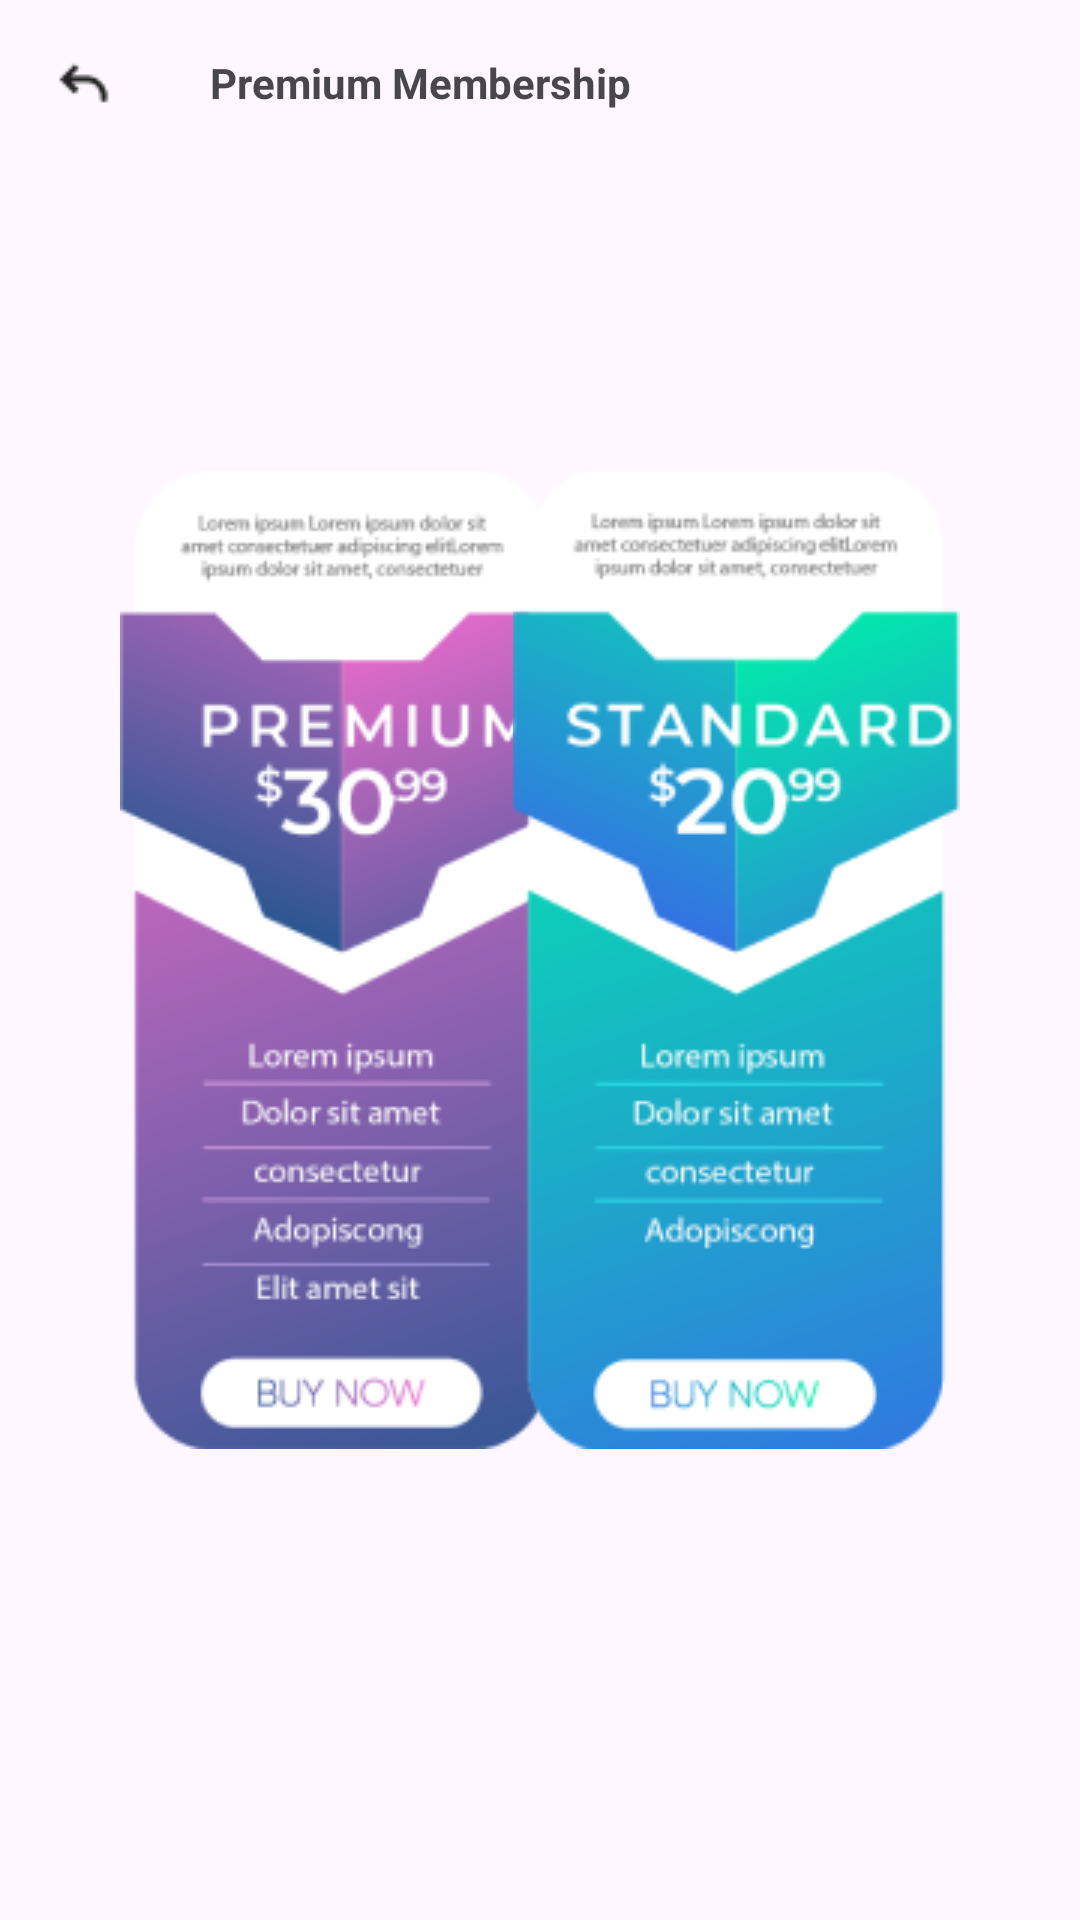

Icon bounding boxes for this 1080*1920 phone screenshot, format (x1,y1,x2,y2):
back: (59,63,109,103)
